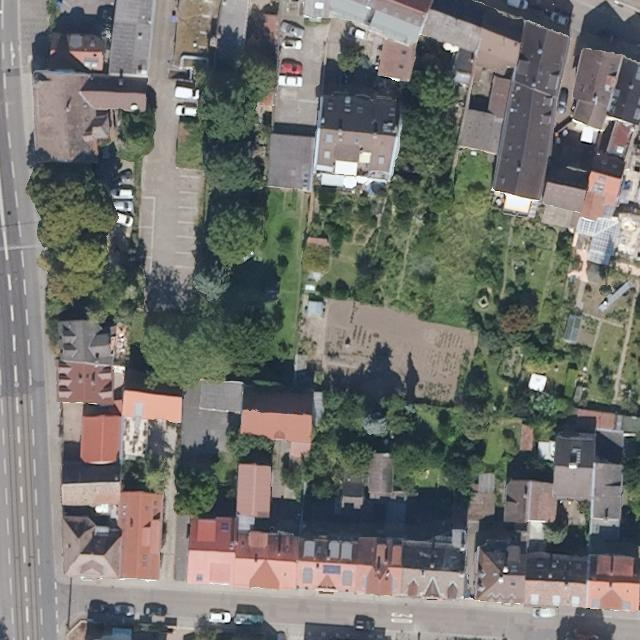PV: (319, 562, 344, 576)
